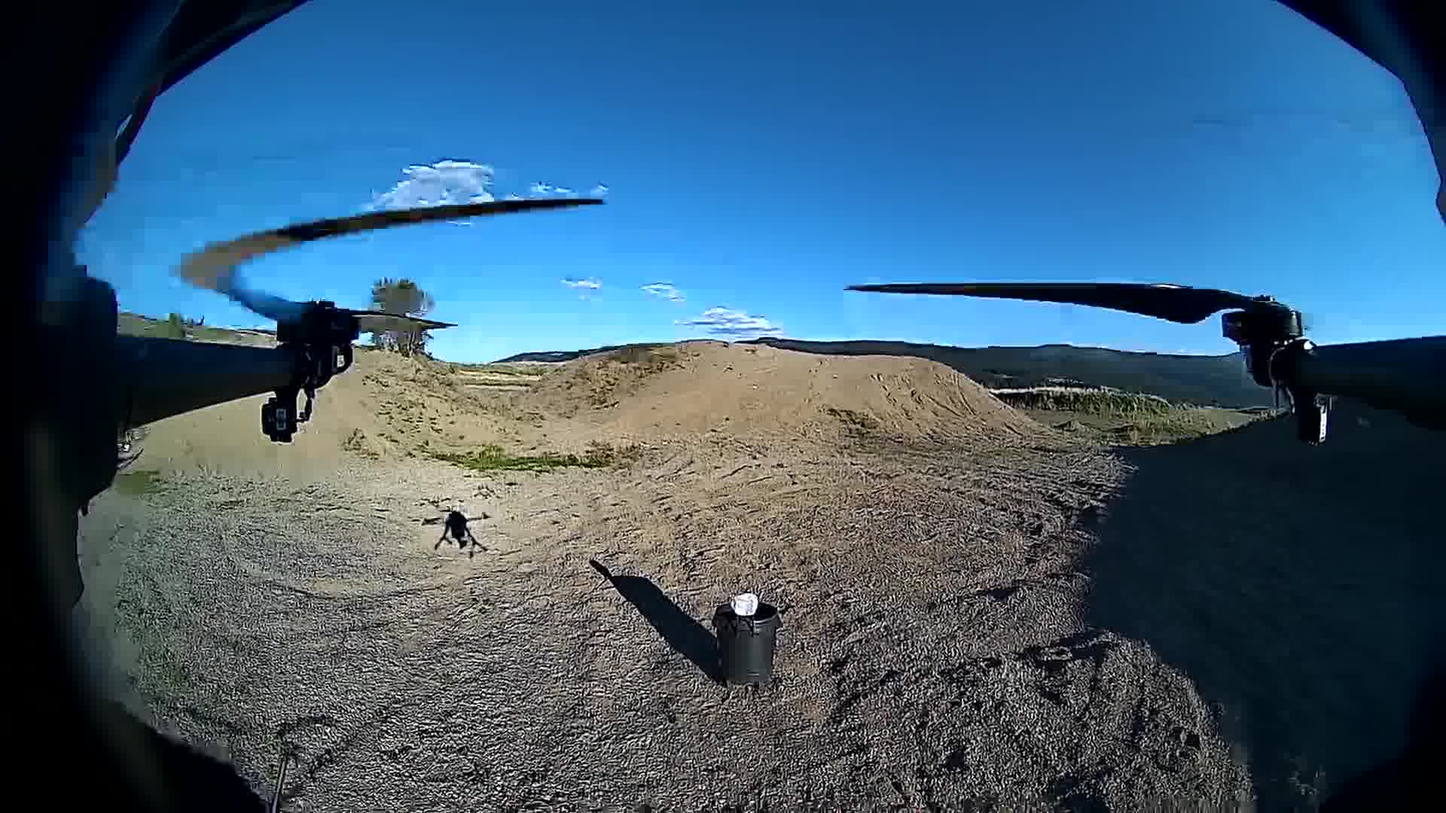Target: (729, 591, 761, 619)
